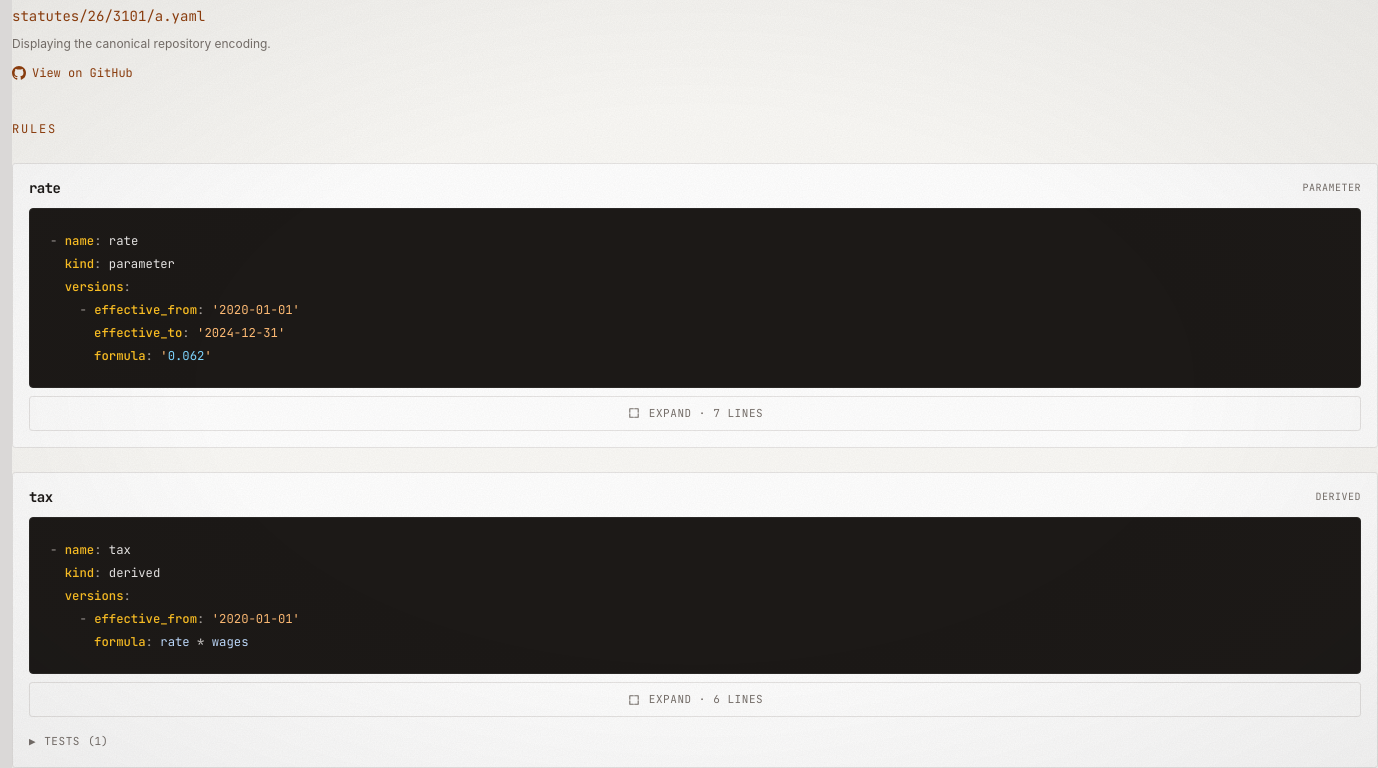
Scenario: RuleSpecTab — rendering edge cases › handles an empty input/output table without crashing
(page scrolled)
Expected: the text "(1)" is shown, left=88, top=734, right=108, bottom=751
Click the button "▶ Tests (1)".
click(68, 742)  # box left=29, top=734, right=108, bottom=751
(page scrolled)
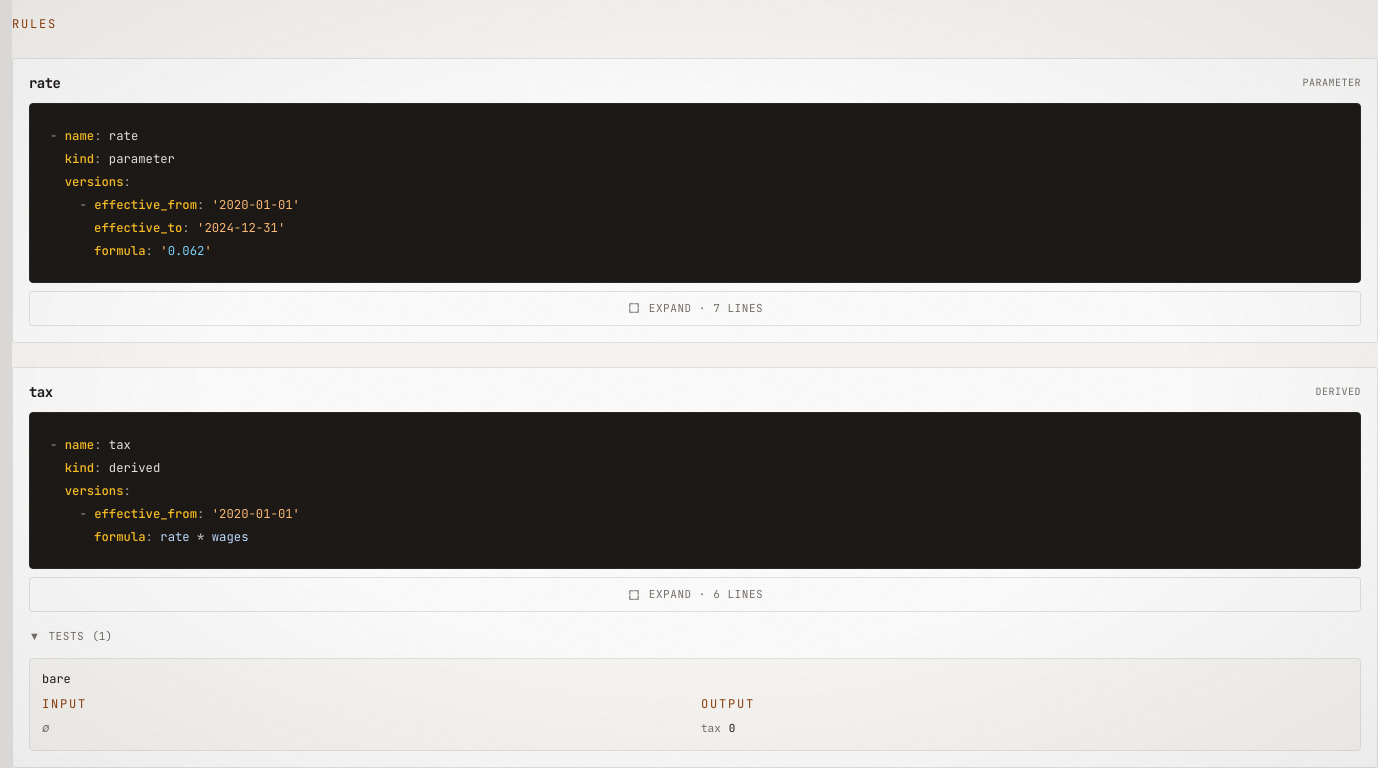
Result: the text "∅" is shown at left=42, top=721, right=50, bottom=735
